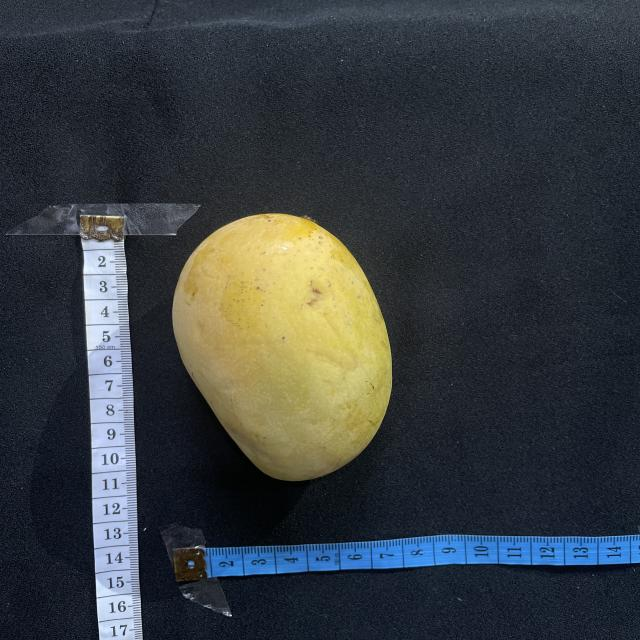Ripe: (173, 214, 392, 480)
